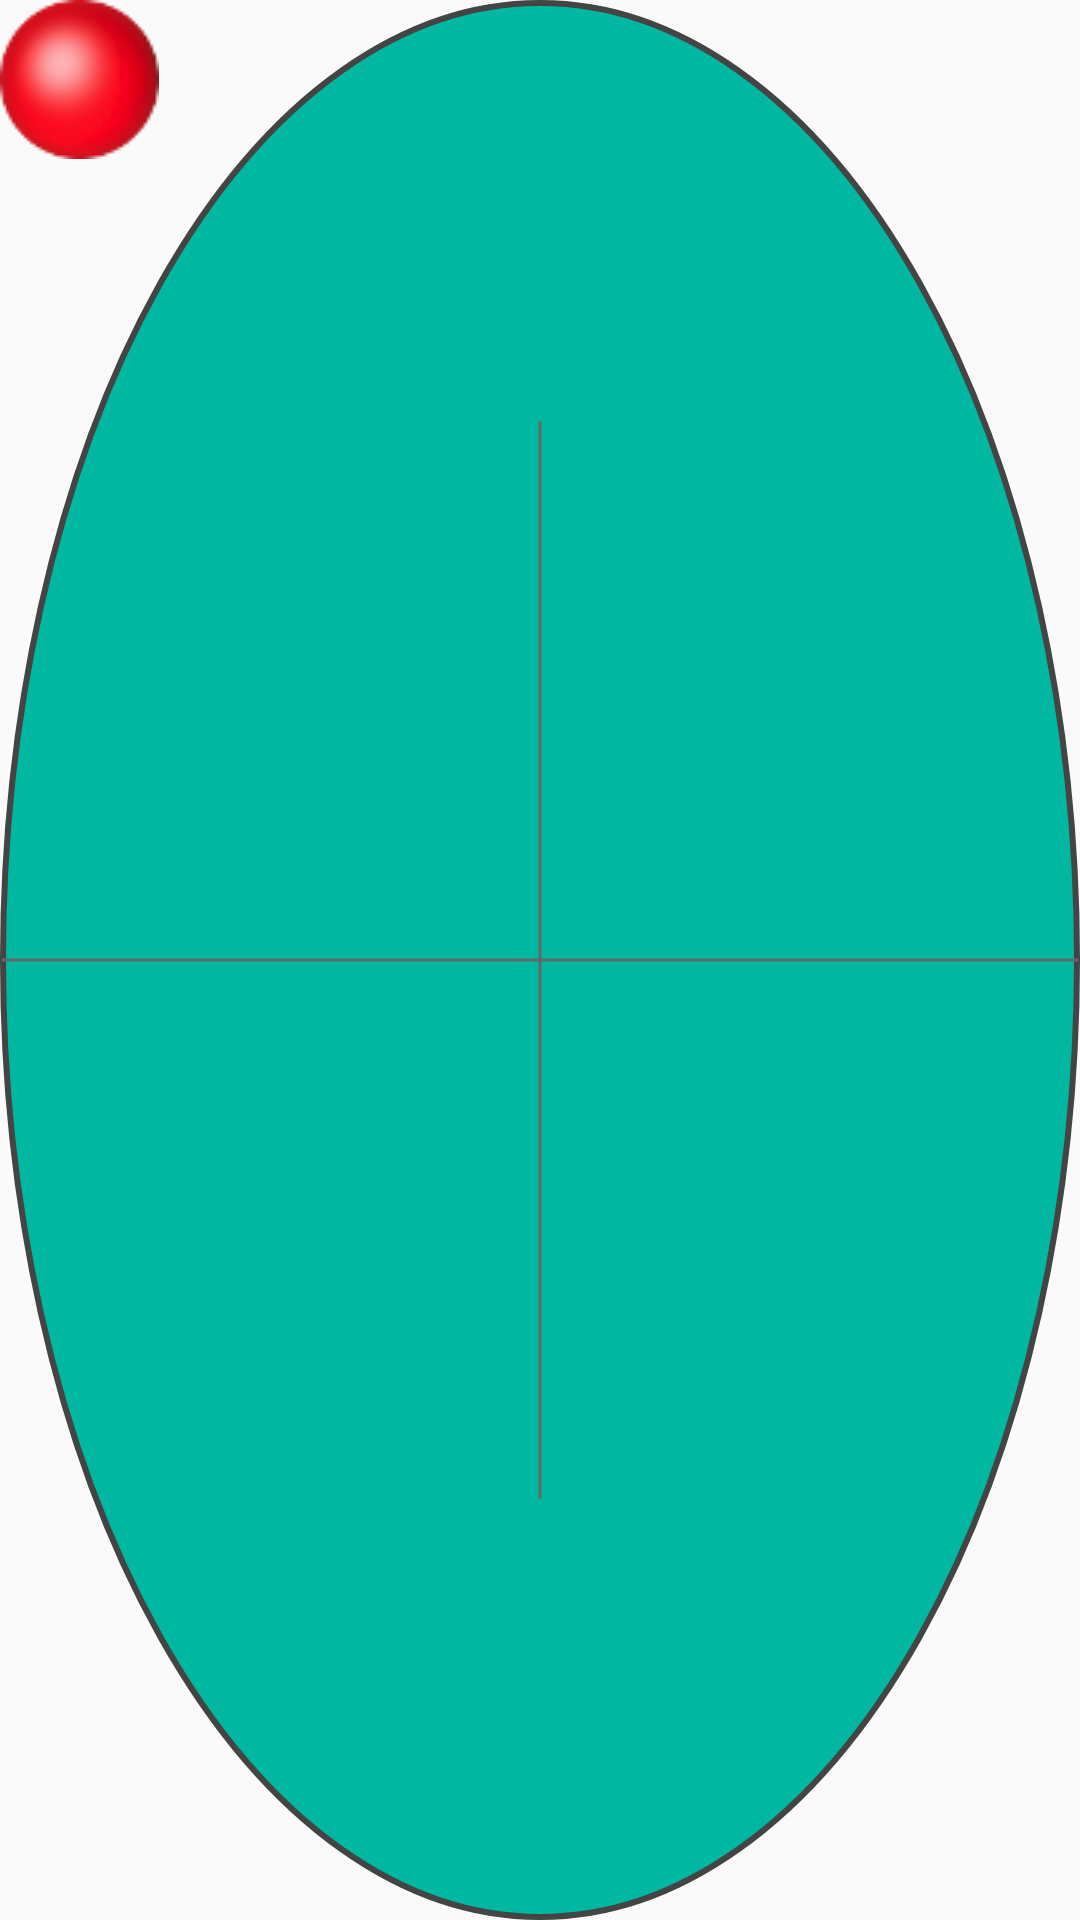

Point at icon controls on the screen. Image size 1080w x 1920h, points as (x=x, y=y).
Joystick: (x=79, y=79)
